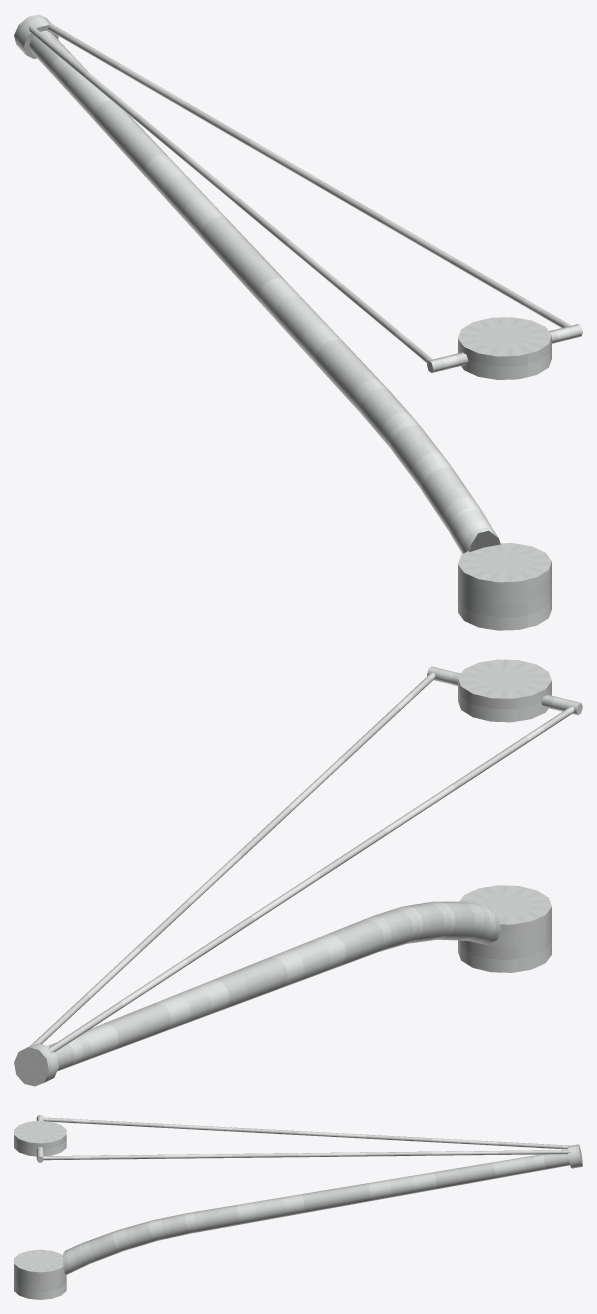
File: nycsignalarm_regular8_inv.obj
3 renders of one model, top to bottom at view 1: azimuth 30°, elevation 25°; view 2: azimuth 150°, elevation 25°; view 3: azimuth 270°, elevation 25°, orthographic. The views are drawn at different scales.
Parts seen in each view (by area): view 1: nycsignalarm_regular8_inv; view 2: nycsignalarm_regular8_inv; view 3: nycsignalarm_regular8_inv.
Boxes of the visible parts, box(x1,y1,x2,y2) form: nycsignalarm_regular8_inv: box(14, 14, 582, 630); nycsignalarm_regular8_inv: box(14, 659, 582, 1086); nycsignalarm_regular8_inv: box(14, 1115, 582, 1299).
Size of the model in its own units: 0.1734 by 0.3035 by 1.
